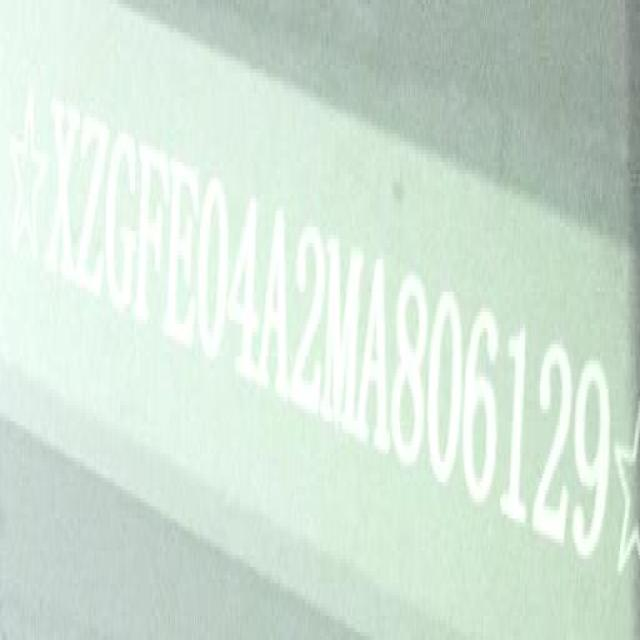0: (426, 272, 461, 495), (197, 174, 229, 366)
1: (500, 321, 530, 545)
2: (536, 342, 575, 557), (293, 221, 325, 420)
4: (227, 188, 261, 382)
6: (462, 308, 499, 510)
8: (390, 276, 430, 477)
9: (572, 353, 614, 564)
A: (356, 249, 391, 461), (257, 204, 292, 410)
E: (168, 159, 197, 350)
F: (136, 144, 168, 335)
G: (105, 125, 136, 318)
M: (322, 238, 362, 442)
X: (49, 93, 80, 297)
Z: (74, 110, 108, 298)
